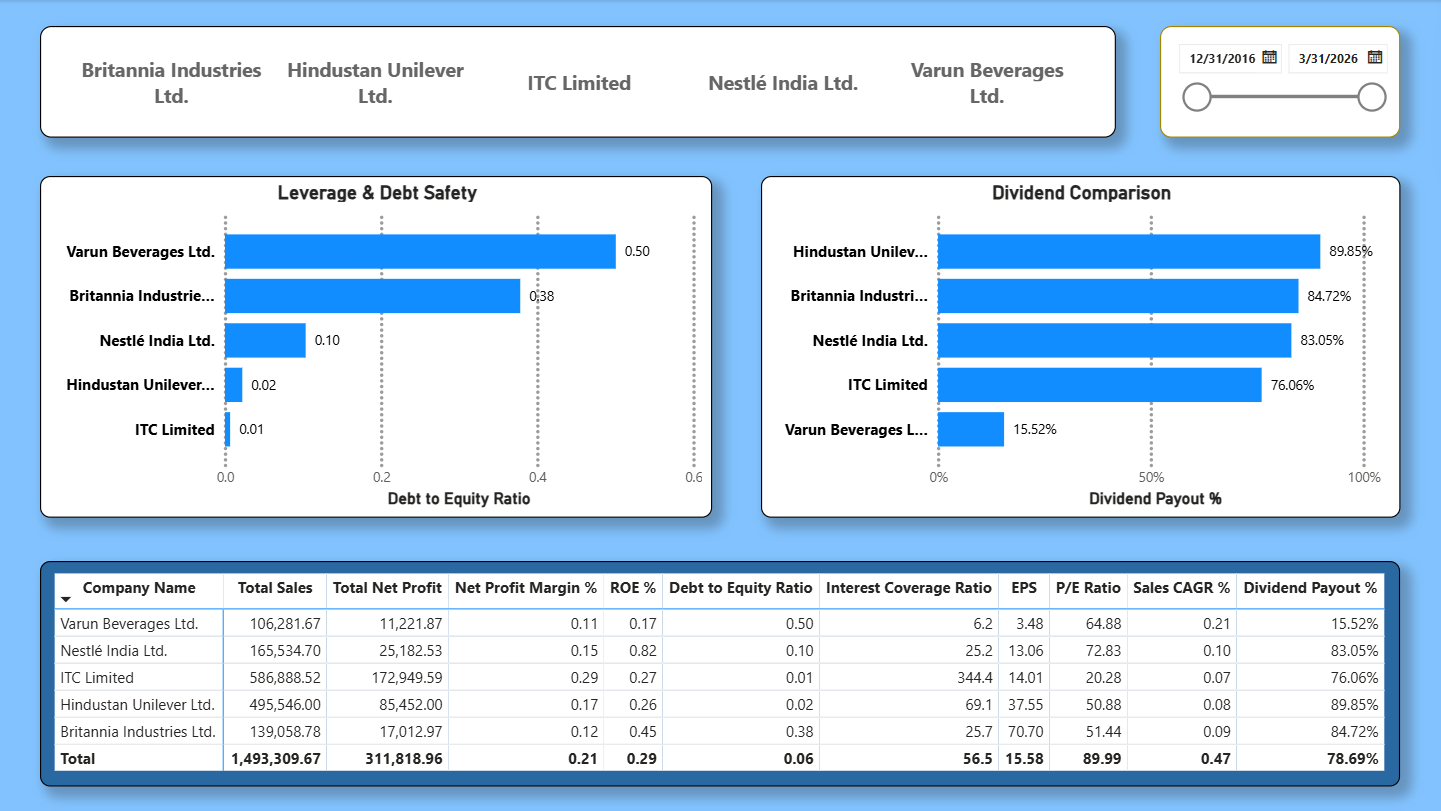

The page's visual inventory and layout, read from the dashboard file:
{"tool":"powerbi","page":{"name":"Page 3","canvas":[1280,720],"ordinal":2},"visuals":[{"type":"pivotTable","fields":{"Rows":["Dim_Company.Display Name"],"Values":["_Measures.Total Sales","_Measures.Total Net Profit","_Measures.Net Profit Margin %","_Measures.ROE %","_Measures.Debt to Equity Ratio","_Measures.Interest Coverage Ratio","_Measures.EPS","_Measures.P/E Ratio","_Measures.Sales CAGR %","_Measures.Dividend Payout %"]},"box":[37,497.5,1205.9,199.5],"z":0,"group":"g1"},{"type":"clusteredBarChart","title":"Leverage & Debt Safety","fields":{"Category":["Dim_Company.Display Name"],"Y":["_Measures.Debt to Equity Ratio"]},"box":[37.4,155.8,596.4,302.7],"z":1000,"group":"g1"},{"type":"clusteredBarChart","title":"Dividend Comparison","fields":{"Category":["Dim_Company.Display Name"],"Y":["_Measures.Dividend Payout %"]},"box":[675.9,155.8,566.9,302.7],"z":2000,"group":"g1"},{"type":"slicer","fields":{"Values":["Dim_Company.Display Name"]},"box":[37,23.1,954.1,99.3],"z":3000,"group":"g1"},{"type":"slicer","fields":{"Values":["Dim_Date.Date"]},"box":[1030.1,23.1,212.8,99.3],"z":4001,"group":"g1"},{"type":"group","id":"g1","title":"Group 1","box":[37,23.1,1205.9,673.9],"z":4002}]}

Visuals, with their boxes in screenshot pixels (x1, y1, x2, y2), scaled from the page's 1280x720 canvas onto the 1441x811 screenshot:
pivotTable - Dim_Company.Display Name x _Measures.Total Sales: (x1=42, y1=560, x2=1399, y2=785)
"Leverage & Debt Safety" clusteredBarChart: (x1=42, y1=175, x2=714, y2=516)
"Dividend Comparison" clusteredBarChart: (x1=761, y1=175, x2=1399, y2=516)
slicer - Dim_Company.Display Name: (x1=42, y1=26, x2=1116, y2=138)
slicer - Dim_Date.Date: (x1=1160, y1=26, x2=1399, y2=138)
"Group 1" group: (x1=42, y1=26, x2=1399, y2=785)
